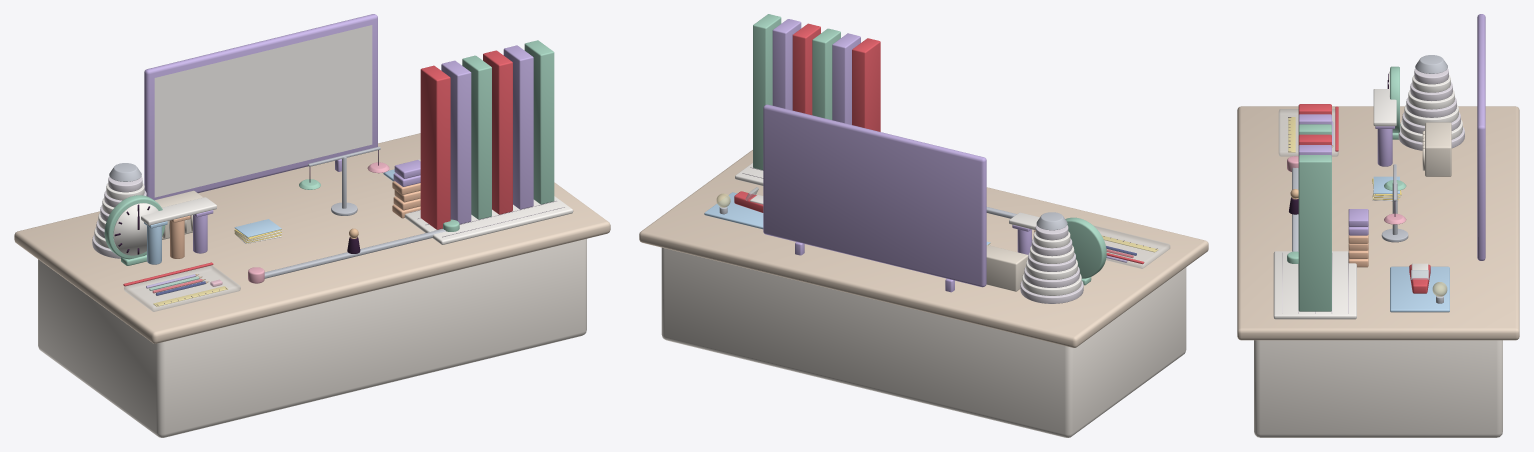
The model's file is socials-desk.glb.
The picture shows the model from 3 angles, left to right: view 1: azimuth 30°, elevation 25°; view 2: azimuth 150°, elevation 25°; view 3: azimuth 270°, elevation 25°; orthographic projection. The views are drawn at different scales.
Visible parts, largest first — view 1: DESK_PLINTH, DESK_TOP, BOARD_FACE, BOARD_FRAME, BAR_0_MESH, BAR_5_MESH, BAR_1_MESH, BAR_4_MESH, BAR_3_MESH, BAR_2_MESH, BAG_POUCH, GRAPH_PLATE (+5 smaller); view 2: DESK_PLINTH, BOARD_FRAME, DESK_TOP, BAR_5_MESH, BAR_0_MESH, BAR_4_MESH, BAR_2_MESH, BAR_3_MESH, BAR_1_MESH, BAG_POUCH, CLOCK_BODY, PARLIAMENT_HOUSE (+3 smaller); view 3: DESK_TOP, DESK_PLINTH, BAR_5_MESH, GRAPH_PLATE, WATER, BOARD_FRAME, PARLIAMENT_HOUSE, BAG_POUCH, BRANCH_ROOF, BRANCH_JUDICIAL_PILLAR, BEEHIVE_TOP, BEEHIVE_TIER.004 (+20 smaller).
Boxes of the visible parts, x1,y1,x2,y2 form: DESK_PLINTH: (38,239,586,437); DESK_TOP: (14,133,610,343); BOARD_FACE: (154,25,372,197); BOARD_FRAME: (144,14,377,200); BAR_0_MESH: (420,65,450,229); BAR_5_MESH: (524,40,554,204); BAR_1_MESH: (441,60,471,224); BAR_4_MESH: (503,45,533,209); BAR_3_MESH: (483,50,512,214); BAR_2_MESH: (462,55,491,219); BAG_POUCH: (124,265,240,311); GRAPH_PLATE: (404,196,573,244); DESK_PLINTH: (661,247,1186,437); BOARD_FRAME: (763,104,986,287); DESK_TOP: (639,150,1208,347); BAR_5_MESH: (753,14,781,170); BAR_0_MESH: (852,38,880,131); BAR_4_MESH: (772,19,801,110); BAR_2_MESH: (812,28,840,119); BAR_3_MESH: (792,23,820,115); BAR_1_MESH: (832,33,860,124); BAG_POUCH: (1094,225,1170,268); CLOCK_BODY: (1065,217,1106,278); PARLIAMENT_HOUSE: (986,245,1027,291); DESK_TOP: (1237,106,1519,340); DESK_PLINTH: (1254,340,1502,437); BAR_5_MESH: (1298,155,1331,311); GRAPH_PLATE: (1273,251,1356,319); WATER: (1390,266,1449,312); BOARD_FRAME: (1477,14,1485,260); PARLIAMENT_HOUSE: (1425,122,1451,176); BAG_POUCH: (1278,109,1338,156); BRANCH_ROOF: (1373,89,1396,126); BRANCH_JUDICIAL_PILLAR: (1377,129,1392,166); BEEHIVE_TOP: (1415,55,1447,73); BEEHIVE_TIER.004: (1406,97,1456,117).
Bounding box in the file's own units: 3.2 × 1.81 × 1.7.
